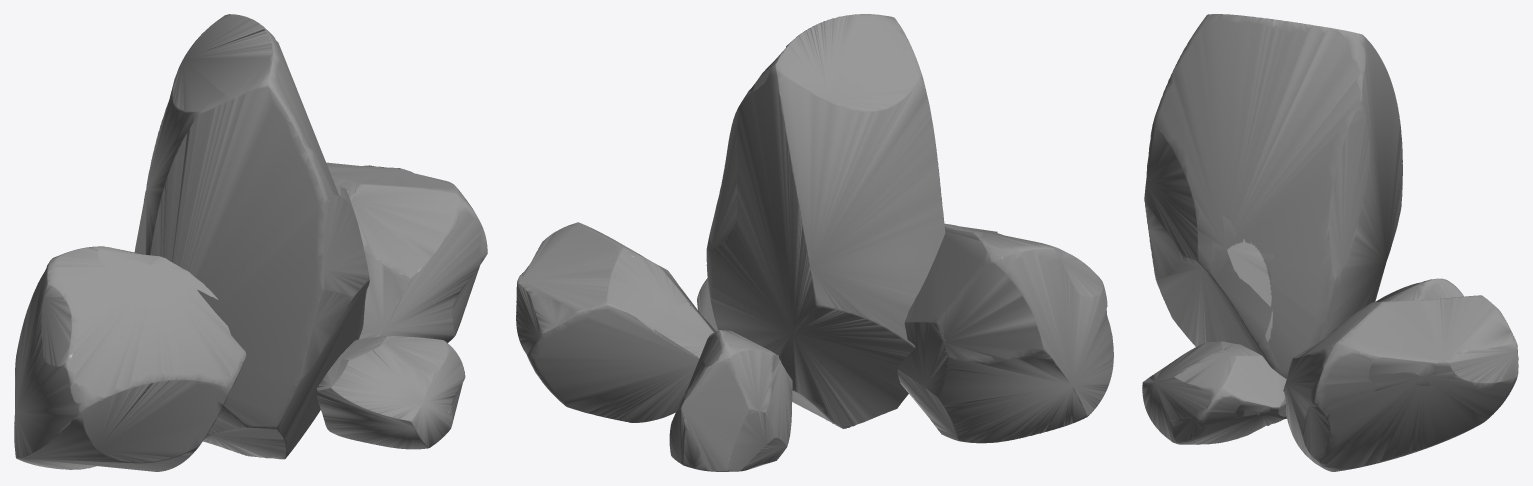
The model's file is StoneVanilla1.fbx.
The picture shows the model from 3 angles, left to right: view 1: azimuth 30°, elevation 25°; view 2: azimuth 150°, elevation 25°; view 3: azimuth 270°, elevation 25°; orthographic projection. The views are drawn at different scales.
Parts seen in each view (by area): view 1: Sphere.003; view 2: Sphere.003; view 3: Sphere.003.
Boxes of the visible parts, x1,y1,x2,y2 form: Sphere.003: (14, 14, 487, 471); Sphere.003: (516, 14, 1113, 471); Sphere.003: (1142, 14, 1518, 471).
Bounding box in the file's own units: 471 × 372 × 323.
Materials: 1 (1 with a texture image).
